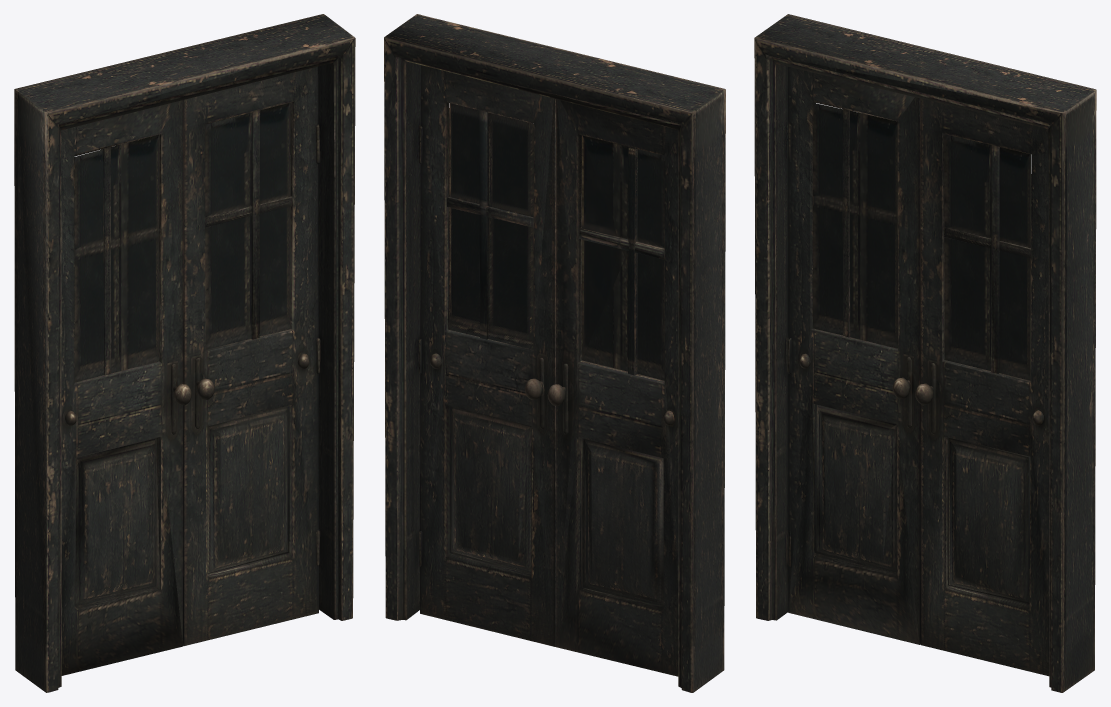
The model's file is door2.fbx.
3 views of the same model, side by side, from view 1: azimuth 30°, elevation 25°; view 2: azimuth 150°, elevation 25°; view 3: azimuth 330°, elevation 25° (orthographic).
Visible parts, largest first — view 1: door2; view 2: door2; view 3: door2.
Boxes of the visible parts, <box> form: door2: <box>14,14,355,692</box>; door2: <box>384,14,725,692</box>; door2: <box>754,14,1096,692</box>.
Size of the model in its own units: 482 by 863 by 89.51.
Materials: 1 (1 with a texture image).
